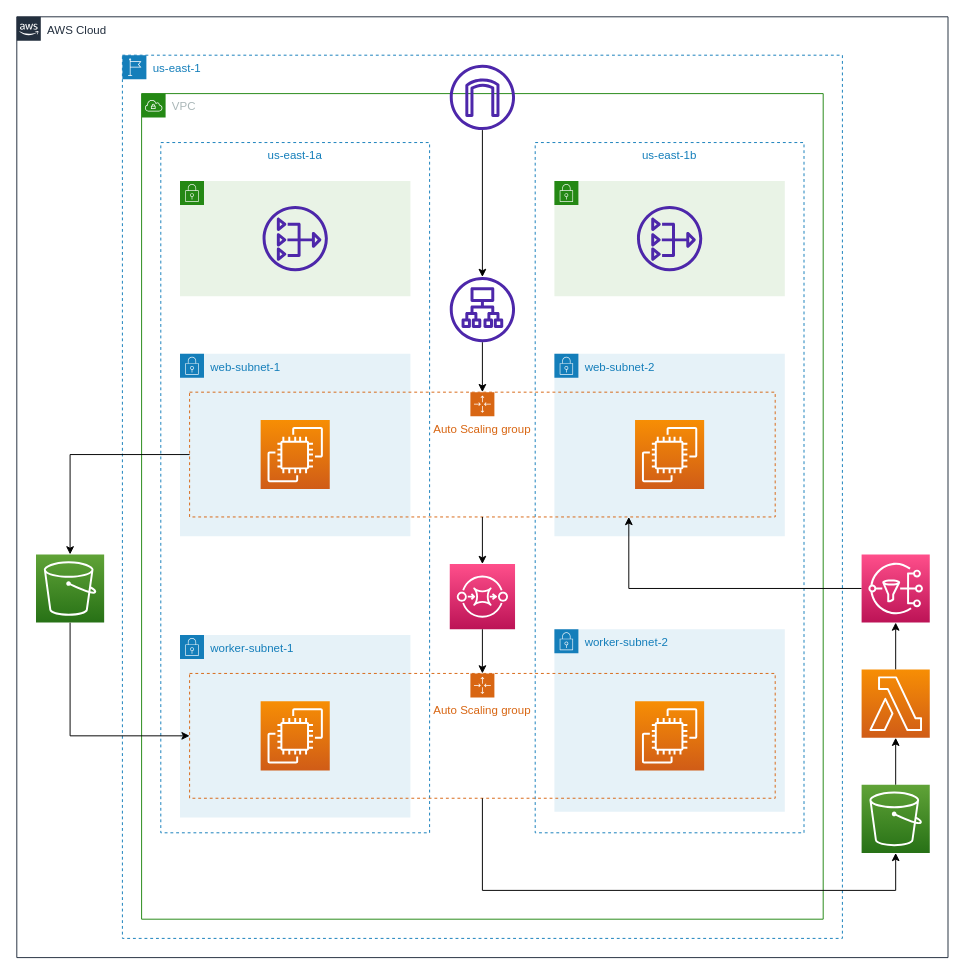
The diagram is 965 pixels wide and 974 high, and some of its shapes have lost their labels. The shapes that lost their labels are listed below. From the top down, each one's box as (x1, y1, x2, y2) in pixels, then its label:
(179, 180, 410, 296): public-subnet-1
(553, 180, 785, 296): public-subnet-2
